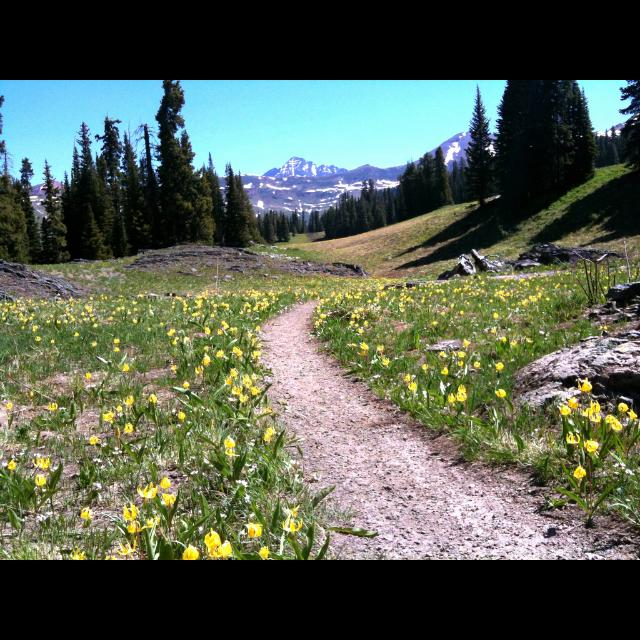Flower: (1, 269, 640, 407), (118, 504, 144, 520), (136, 482, 162, 498), (242, 521, 262, 541), (181, 544, 201, 560), (204, 530, 220, 548), (214, 542, 232, 558), (30, 454, 50, 468), (282, 518, 302, 532), (78, 504, 94, 520), (144, 514, 162, 528), (262, 427, 280, 441), (280, 504, 298, 518), (161, 492, 177, 506), (557, 404, 573, 418), (578, 379, 594, 393), (224, 434, 236, 452), (126, 522, 140, 536), (566, 432, 580, 446), (574, 464, 588, 478), (590, 411, 604, 425), (122, 421, 136, 434), (32, 473, 44, 487), (70, 549, 86, 559), (102, 552, 120, 560), (568, 396, 580, 408), (446, 392, 456, 406), (494, 388, 508, 398), (605, 412, 619, 422), (628, 409, 638, 423), (88, 434, 98, 446), (102, 413, 114, 423), (407, 380, 419, 390), (494, 361, 506, 371), (617, 402, 629, 412), (260, 545, 268, 559), (579, 405, 587, 419), (84, 371, 94, 382), (148, 393, 160, 402), (588, 403, 600, 412), (119, 362, 129, 372), (403, 374, 413, 384), (441, 366, 451, 376), (613, 422, 623, 432), (8, 458, 16, 470), (160, 479, 172, 487), (420, 363, 432, 371), (458, 382, 466, 394), (125, 396, 136, 404), (27, 388, 35, 398), (50, 401, 58, 411), (71, 330, 81, 338), (114, 404, 124, 412), (182, 379, 190, 389), (438, 350, 448, 358), (474, 358, 482, 368), (584, 442, 594, 450), (178, 412, 186, 421), (458, 359, 466, 368), (34, 334, 41, 344), (4, 400, 10, 410), (114, 344, 120, 354), (456, 393, 466, 399), (90, 339, 96, 347), (112, 338, 120, 344), (458, 352, 466, 358), (49, 338, 56, 344)
